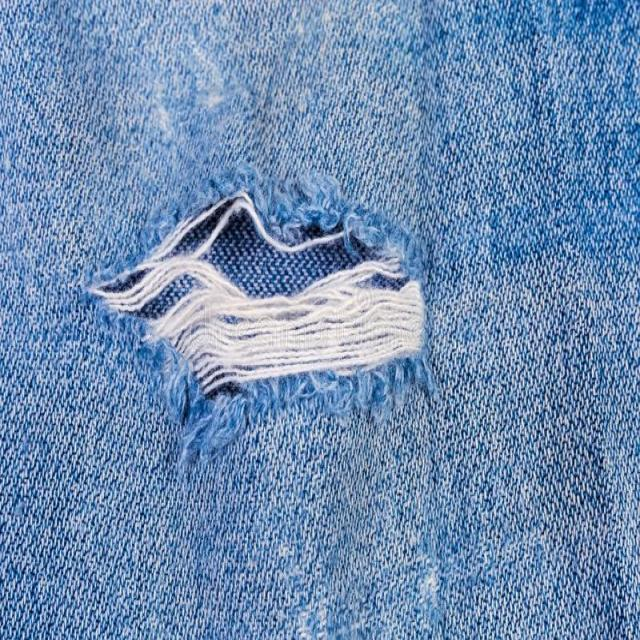Hole: (89, 192, 427, 394)
